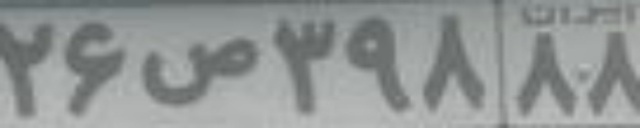2: (2, 21, 50, 117)
3: (272, 16, 341, 113)
6: (64, 21, 125, 115)
8: (413, 15, 487, 114), (507, 30, 580, 118), (586, 31, 639, 117)
9: (342, 16, 411, 115)
saat: (142, 34, 261, 106)
